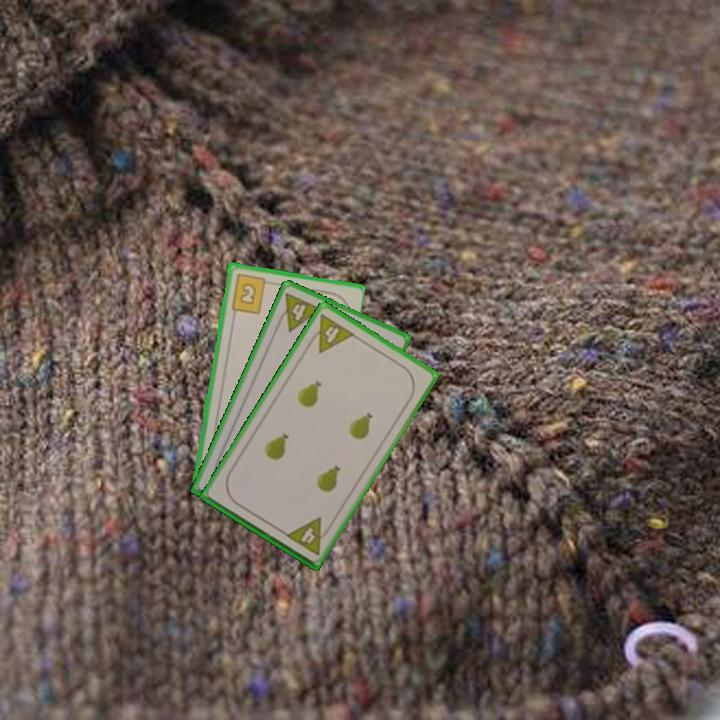2b: (227, 270, 274, 316)
4p: (304, 310, 357, 356), (273, 289, 324, 335), (282, 514, 334, 558)
